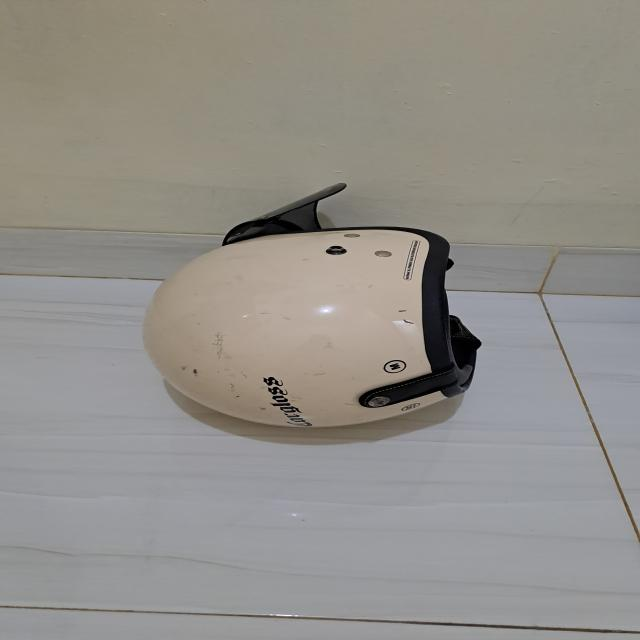Helm: (132, 173, 482, 441)
